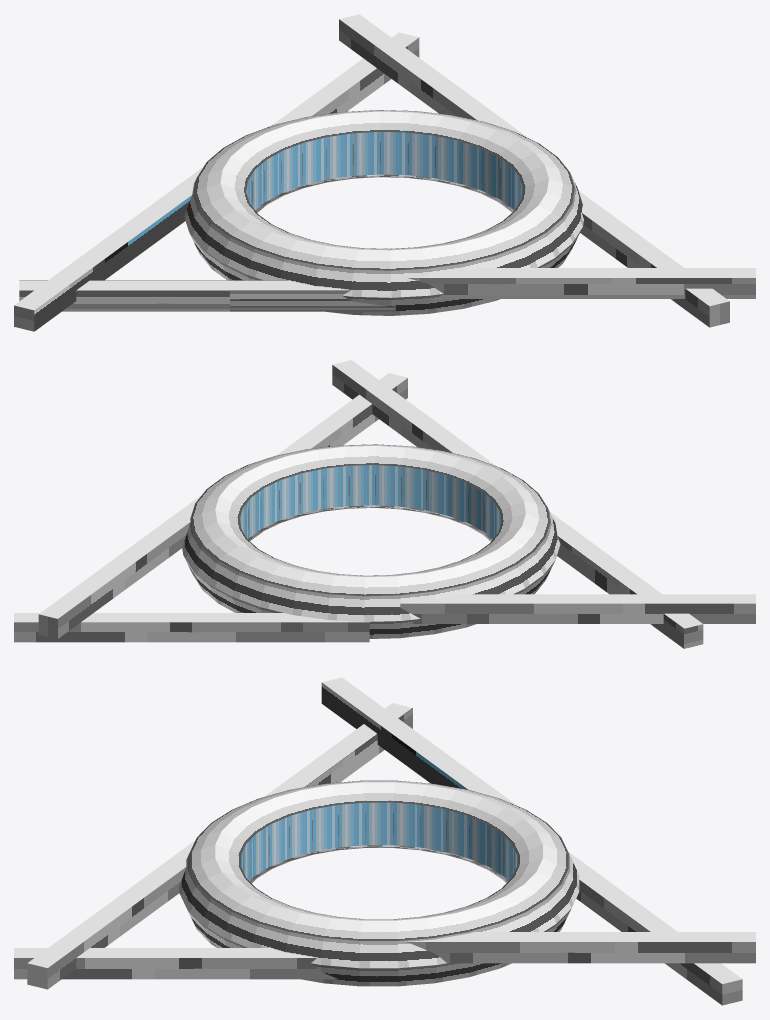
File: gate.fbx
3 renders of one model, top to bottom at view 1: azimuth 30°, elevation 25°; view 2: azimuth 150°, elevation 25°; view 3: azimuth 270°, elevation 25°, orthographic. The views are drawn at different scales.
Visible parts, largest first — view 1: structure, ring, cuboid_2, cuboid_5, cuboid_1, cuboid_3, cuboid, cuboid_4; view 2: structure, ring, cuboid_1, cuboid_4, cuboid_3, cuboid_2, cuboid_5, cuboid; view 3: structure, ring, cuboid_3, cuboid, cuboid_2, cuboid_1, cuboid_4, cuboid_5.
Boxes of the visible parts, x1=… form: structure: x1=184, y1=110, x2=583, y2=315; ring: x1=246, y1=132, x2=522, y2=210; cuboid_2: x1=407, y1=268, x2=755, y2=298; cuboid_5: x1=19, y1=280, x2=395, y2=311; cuboid_1: x1=14, y1=168, x2=202, y2=331; cuboid_3: x1=339, y1=14, x2=528, y2=138; cuboid: x1=578, y1=191, x2=729, y2=327; cuboid_4: x1=271, y1=32, x2=419, y2=125; structure: x1=182, y1=444, x2=560, y2=638; ring: x1=239, y1=465, x2=501, y2=538; cuboid_1: x1=400, y1=594, x2=755, y2=623; cuboid_4: x1=14, y1=613, x2=369, y2=642; cuboid_3: x1=38, y1=495, x2=201, y2=638; cuboid_2: x1=332, y1=360, x2=496, y2=466; cuboid_5: x1=550, y1=512, x2=703, y2=648; cuboid: x1=276, y1=373, x2=407, y2=455; structure: x1=179, y1=780, x2=579, y2=986; ring: x1=241, y1=802, x2=517, y2=880; cuboid_3: x1=407, y1=932, x2=755, y2=963; cuboid: x1=14, y1=948, x2=337, y2=979; cuboid_2: x1=27, y1=840, x2=195, y2=989; cuboid_1: x1=321, y1=677, x2=517, y2=805; cuboid_4: x1=568, y1=852, x2=742, y2=1005; cuboid_5: x1=264, y1=703, x2=412, y2=796.
Bounding box in the file's own units: 58.43 × 6.02 × 63.
Materials: 1 (1 with a texture image).
